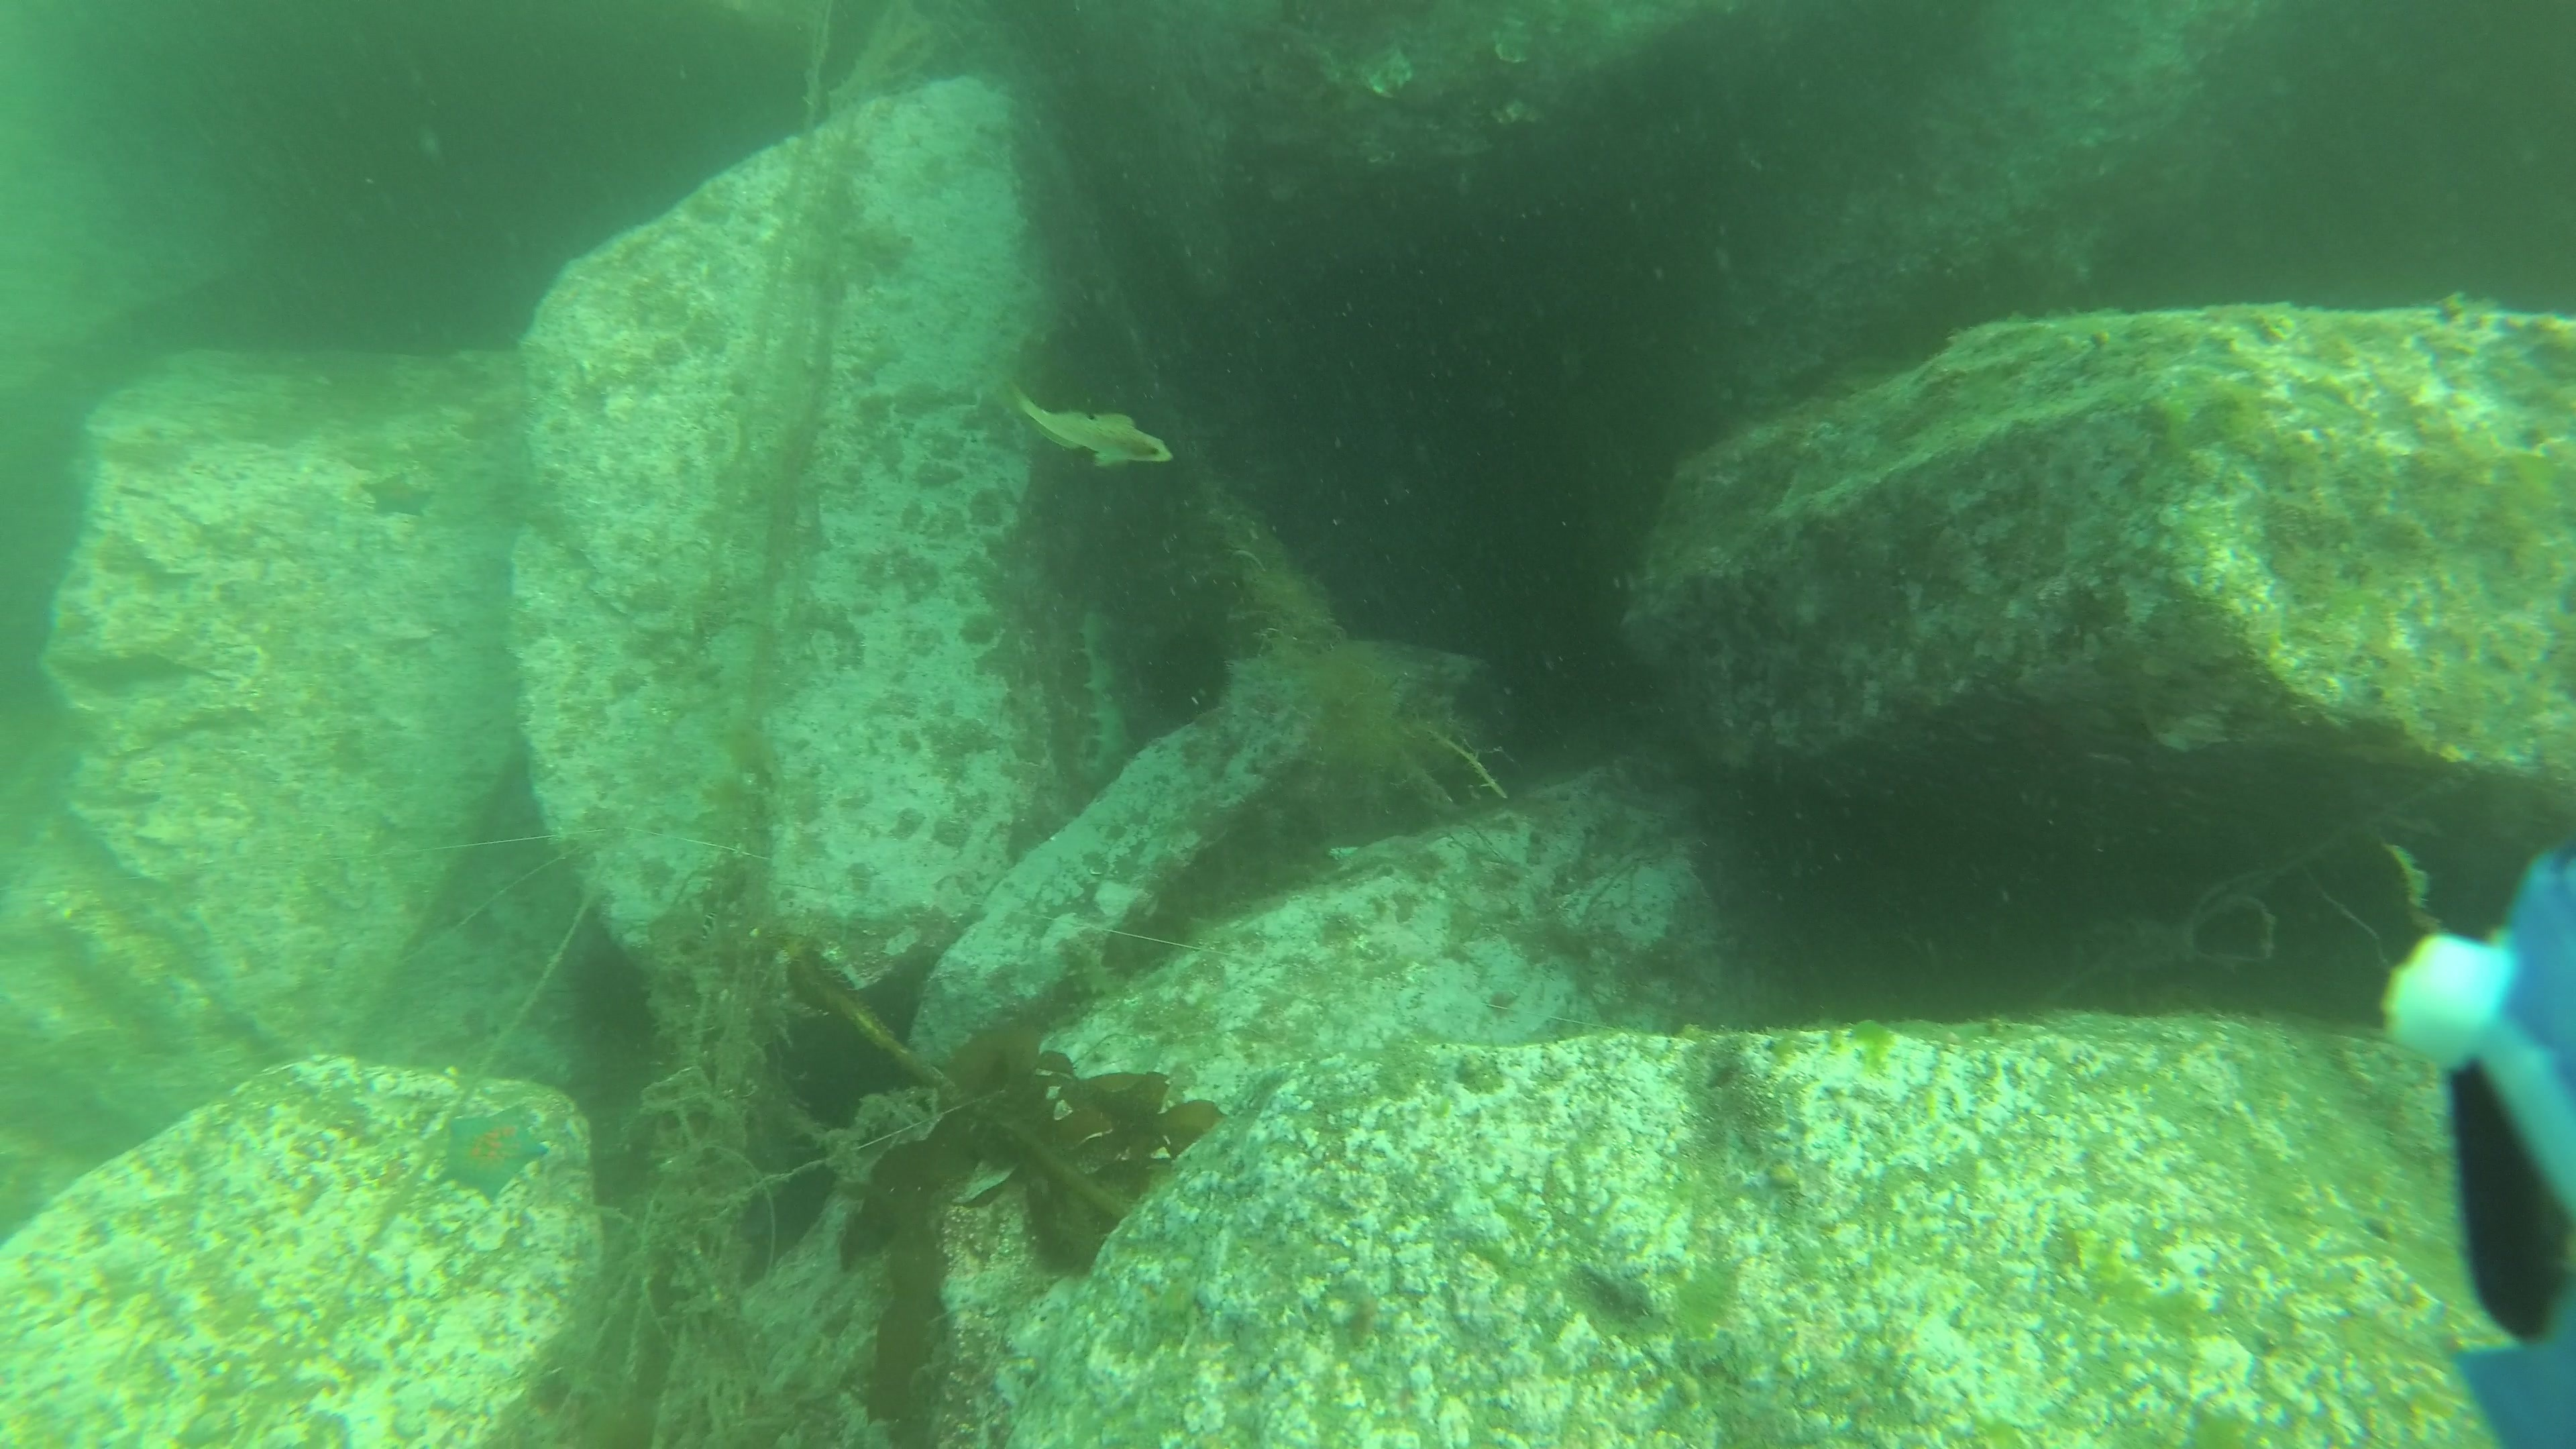echinus: (1136, 617, 1238, 725)
starfish: (433, 1099, 556, 1207), (356, 467, 439, 520)
